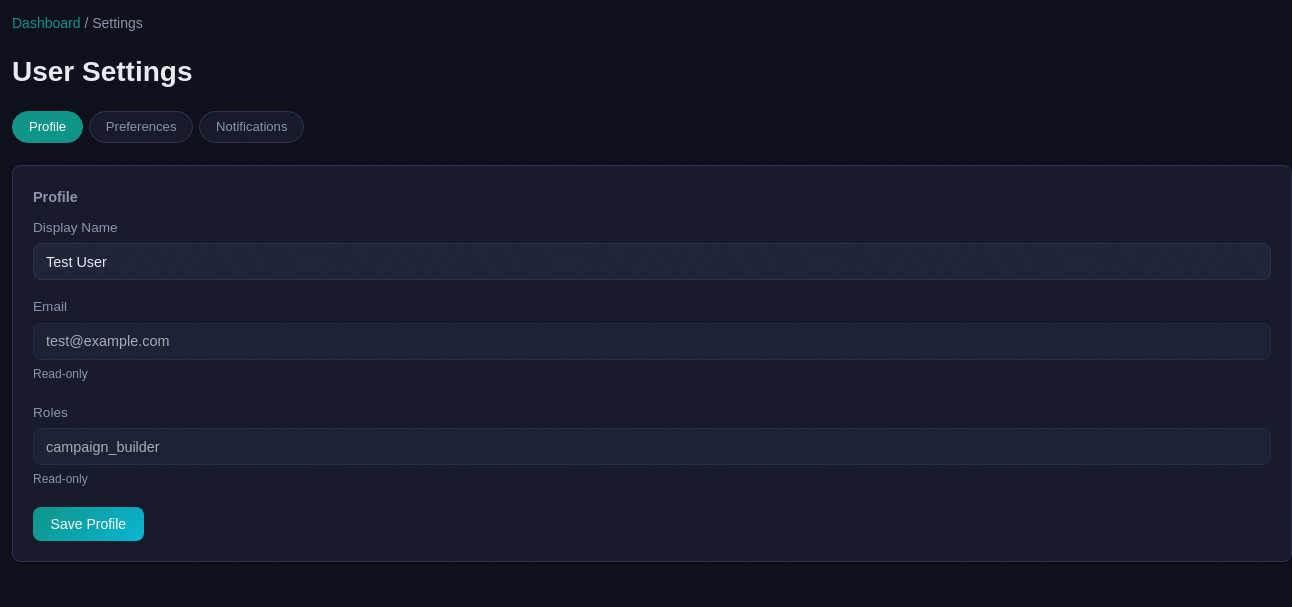
it: UserSettings – Preferences tab › loads existing settings into form fields
Check: the heading "User Settings" is shown, box [12, 50, 192, 95]
Click the tab "Preferences". click: (141,127)
box: [89, 111, 194, 143]
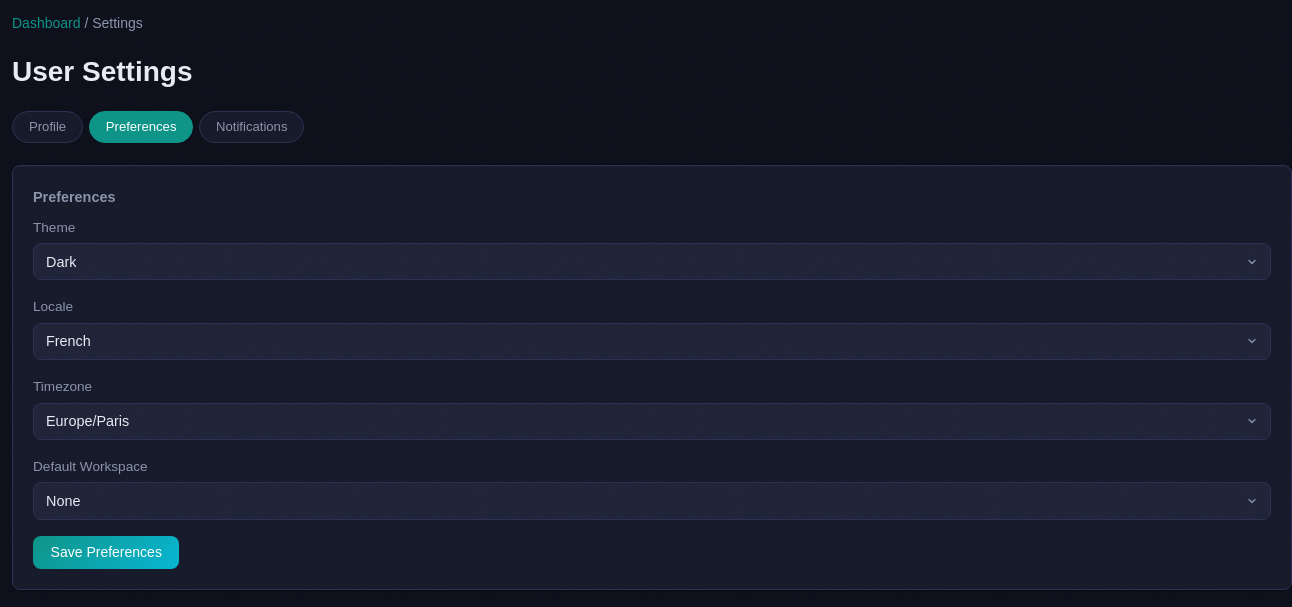
Check: the element with test id "tab-preferences" is shown
Check: the button named "theme" reads "Dark", box [33, 243, 1271, 280]
Check: the button named "locale" reads "French", box [33, 323, 1271, 360]
